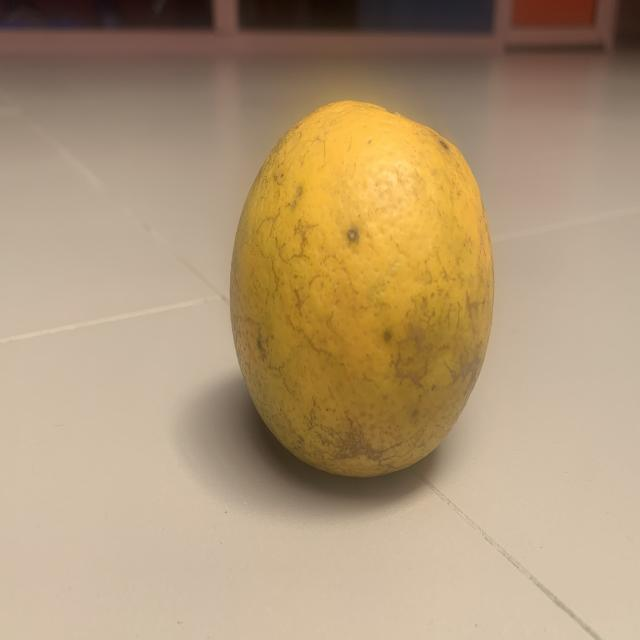Ripe orange: (219, 95, 497, 502)
